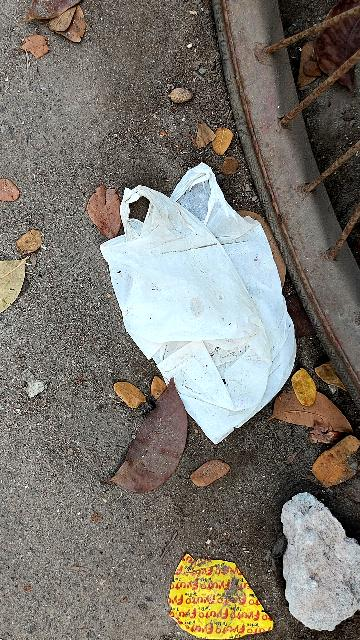polythene: (89, 165, 341, 460)
